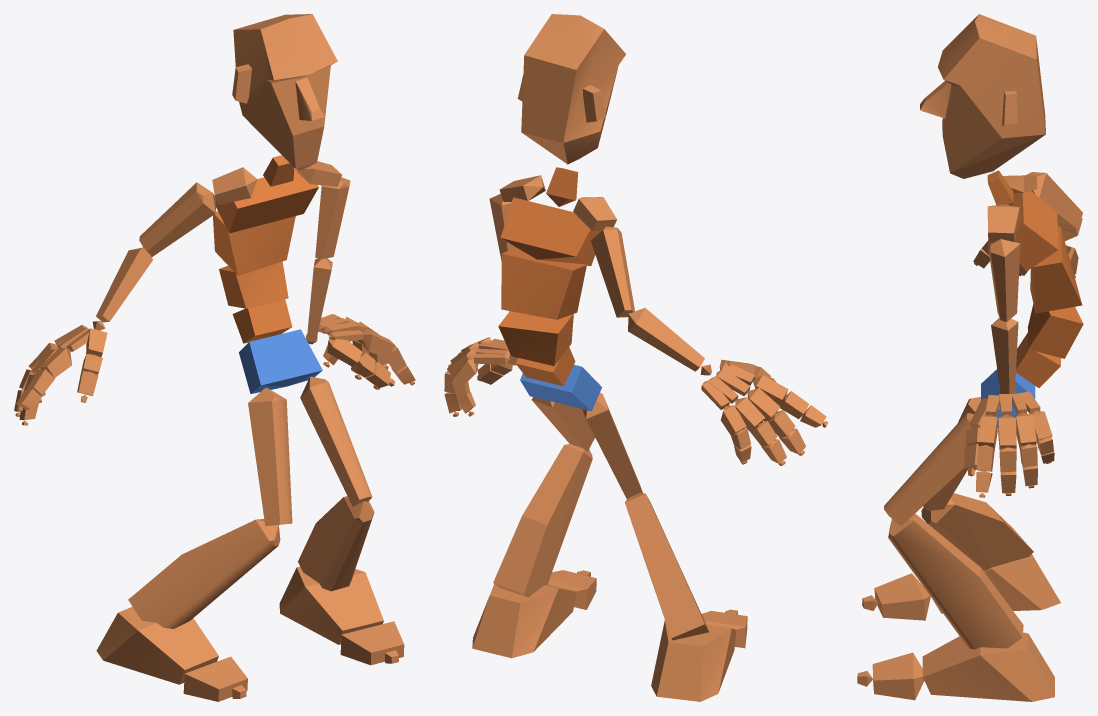
The picture shows the model from 3 angles, left to right: view 1: azimuth 30°, elevation 25°; view 2: azimuth 150°, elevation 25°; view 3: azimuth 270°, elevation 25°; orthographic projection. The views are drawn at different scales.
Parts seen in each view (by area): view 1: BOPED_Head, BOPED_R_leg, BOPED_R_foot, BOPED_R_foot01, BOPED_R_legup, BOPED_L_leg, BOPED_L_legup, Bone01, Bone04, Bone05, BOPED_R_arm_upper, Bone03 (+10 smaller); view 2: BOPED_Head, BOPED_L_leg, BOPED_R_foot01, BOPED_R_foot, BOPED_R_leg, Bone04, Bone05, Bone03, BOPED_R_arm_upper, BOPED_R_legup, BOPED_R_arm_fore, Bone01 (+10 smaller); view 3: BOPED_Head, BOPED_L_leg, BOPED_R_foot01, BOPED_R_leg, BOPED_L_legup, BOPED_R_foot, Bone05, Bone04, Bone03, BOPED_L_arm_upper, BOPED_R_foot_toe01, BOPED_R_foot_toe04 (+15 smaller).
Part boxes in pixels (bbox=[...]): BOPED_Head: bbox=[232, 14, 337, 170]; BOPED_R_leg: bbox=[128, 519, 280, 628]; BOPED_R_foot: bbox=[96, 606, 218, 684]; BOPED_R_foot01: bbox=[279, 566, 383, 644]; BOPED_R_legup: bbox=[248, 388, 292, 525]; BOPED_L_leg: bbox=[298, 496, 374, 591]; BOPED_L_legup: bbox=[300, 376, 372, 506]; Bone01: bbox=[239, 329, 322, 393]; Bone04: bbox=[213, 211, 295, 275]; Bone05: bbox=[216, 169, 318, 233]; BOPED_R_arm_upper: bbox=[139, 182, 216, 256]; Bone03: bbox=[219, 261, 288, 308]; BOPED_Head: bbox=[517, 14, 625, 164]; BOPED_L_leg: bbox=[493, 443, 592, 597]; BOPED_R_foot01: bbox=[472, 584, 576, 658]; BOPED_R_foot: bbox=[651, 620, 736, 701]; BOPED_R_leg: bbox=[624, 492, 708, 640]; Bone04: bbox=[501, 248, 586, 319]; Bone05: bbox=[500, 197, 601, 265]; Bone03: bbox=[498, 311, 573, 365]; BOPED_R_arm_upper: bbox=[591, 226, 634, 317]; BOPED_R_legup: bbox=[582, 392, 642, 498]; BOPED_R_arm_fore: bbox=[628, 308, 704, 371]; Bone01: bbox=[520, 364, 601, 411]; BOPED_Head: bbox=[920, 14, 1045, 178]; BOPED_L_leg: bbox=[888, 513, 1023, 649]; BOPED_R_foot01: bbox=[922, 632, 1054, 701]; BOPED_R_leg: bbox=[921, 493, 1033, 570]; BOPED_L_legup: bbox=[884, 413, 973, 525]; BOPED_R_foot: bbox=[933, 554, 1060, 613]; Bone05: bbox=[1012, 191, 1058, 271]; Bone04: bbox=[1030, 227, 1082, 313]; Bone03: bbox=[1027, 304, 1083, 358]; BOPED_L_arm_upper: bbox=[987, 238, 1020, 322]; BOPED_R_foot_toe01: bbox=[874, 573, 930, 620]; BOPED_R_foot_toe04: bbox=[872, 652, 924, 700].
Size of the model in its own units: 116 by 176 by 56.5.
